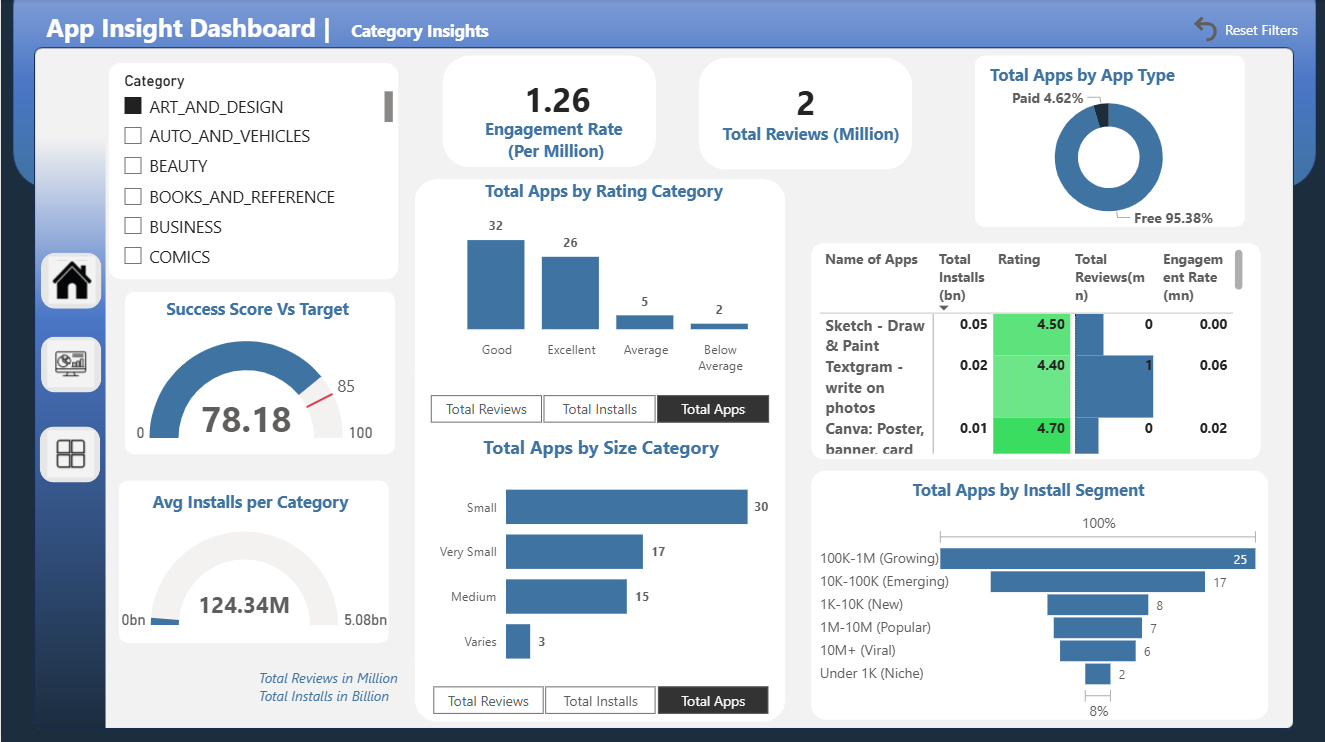

The dashboard page shown, as its layout file describes it:
{"tool":"powerbi","page":{"name":"Category","canvas":[1280,720],"ordinal":1},"visuals":[{"type":"shape","box":[939.2,54.8,261.1,165.9],"z":0},{"type":"shape","box":[782,235.2,434.3,209.2],"z":1000},{"type":"shape","box":[782,454.5,441.5,240.9],"z":2000},{"type":"shape","box":[114,464.1,261.1,157.3],"z":3000},{"type":"shape","box":[103.9,62,279.9,209.2],"z":4000},{"type":"shape","box":[119.7,281.8,261.1,157.3],"z":5000},{"type":"shape","box":[399.6,173.1,357.8,523.7],"z":6000},{"type":"slicer","fields":{"Values":["Apps.Category"]},"box":[106.8,64.9,277,200.5],"z":7000},{"type":"gauge","fields":{"Y":["Measure Table.Avg Success Score"],"MinValue":["Measure Table.zero"],"MaxValue":["Measure Table.max"],"TargetValue":["Measure Table.Target"]},"box":[121.2,319.3,248.2,119.7],"z":8000},{"type":"funnel","fields":{"Category":["Apps.Install Segment"],"Y":["Measure Table.Total Apps"]},"box":[785.4,491,435.5,209.9],"z":9000},{"type":"gauge","fields":{"MaxValue":["Measure Table.Avg install"],"MinValue":["Measure Table.zero"],"Y":["Measure Table.Avg Installs Per Category"]},"box":[106.8,501.6,277,119.7],"z":10000},{"type":"shape","box":[673.4,56.2,206.3,108.2],"z":11000},{"type":"card","fields":{"Values":["Measure Table.Total Reviews (M)"]},"box":[717,53.8,121.2,90.9],"z":12000},{"type":"textbox","box":[691,113.9,183.2,49.1],"z":13000},{"type":"shape","box":[425.6,54.4,206.3,108.2],"z":14000},{"type":"card","fields":{"Values":["Sum(Apps.Engagement Rate)"]},"box":[458.8,51.9,157.3,90.9],"z":15000},{"type":"textbox","box":[443.2,112.1,183.2,49.1],"z":16000},{"type":"barChart","fields":{"Y":["Measure Table.Total Apps"],"Category":["Apps.Size Category"]},"box":[412.6,421.3,333.3,239.5],"z":17000},{"type":"clusteredColumnChart","fields":{"Y":["Measure Table.Total Apps"],"Category":["Apps.Rating Category"]},"box":[406.9,173.1,350.6,196.2],"z":18000},{"type":"donutChart","fields":{"Category":["Apps.Type"],"Y":["Measure Table.Total Apps"]},"box":[916.2,80.8,307.3,144.3],"z":19000},{"type":"slicer","fields":{"Values":["Parameter.Parameter"]},"box":[388.1,375.1,376.6,34.6],"z":20000},{"type":"slicer","fields":{"Values":["Parameter3.Parameter3"]},"box":[391,656.5,373.7,37.5],"z":21000},{"type":"textbox","box":[154.4,281.8,200.5,33.2],"z":22000},{"type":"textbox","box":[141.4,468.9,206.3,33.2],"z":23000},{"type":"textbox","box":[874.3,457.4,240.9,33.2],"z":24000},{"type":"textbox","box":[949.3,56.3,240.9,33.2],"z":25000},{"type":"pivotTable","fields":{"Rows":["Apps.App"],"Values":["Measure Table.Total Installs (B)","Measure Table.Avg Rating","Measure Table.Total Reviews (M)","Sum(Apps.Engagement Rate)"]},"box":[784.9,236.6,418.4,207.8],"z":26000},{"type":"textbox","box":[243.8,640.6,155.8,53.4],"z":27000},{"type":"shape","box":[38.4,244.6,58.3,54],"z":28000},{"type":"shape","box":[38.4,325.7,58.3,54],"z":29000},{"type":"actionButton","box":[44.1,330,45.5,45.5],"z":30000},{"type":"shape","box":[37,412.4,58.3,54],"z":31000},{"type":"actionButton","box":[44.1,416.7,45.5,45.5],"z":32000},{"type":"actionButton","box":[45.5,248.9,45.5,45.5],"z":33000},{"type":"textbox","box":[38.6,6,518.8,44.6],"z":34000},{"type":"actionButton","box":[1146.1,11.9,116.9,33.2],"z":35000},{"type":"textbox","box":[1176.8,15.6,92.9,32.6],"z":36000}]}

Visuals, with their boxes in screenshot pixels (x1, y1, x2, y2), scaled from the page's 1280x720 canvas onto the 1325x742 screenshot:
shape: region(972, 56, 1242, 227)
shape: region(809, 242, 1259, 458)
shape: region(809, 468, 1267, 717)
shape: region(118, 478, 388, 640)
shape: region(108, 64, 397, 279)
shape: region(124, 290, 394, 453)
shape: region(414, 178, 784, 718)
slicer - Apps.Category: region(111, 67, 397, 274)
gauge - Measure Table.Avg Success Score x Measure Table.zero: region(125, 329, 382, 452)
funnel - Apps.Install Segment x Measure Table.Total Apps: region(813, 506, 1264, 722)
gauge - Measure Table.Avg install x Measure Table.zero: region(111, 517, 397, 640)
shape: region(697, 58, 911, 169)
card - Measure Table.Total Reviews (M): region(742, 55, 868, 149)
textbox: region(715, 117, 905, 168)
shape: region(441, 56, 654, 168)
card - Sum(Apps.Engagement Rate): region(475, 53, 638, 147)
textbox: region(459, 116, 648, 166)
barChart - Measure Table.Total Apps x Apps.Size Category: region(427, 434, 772, 681)
clusteredColumnChart - Measure Table.Total Apps x Apps.Rating Category: region(421, 178, 784, 381)
donutChart - Apps.Type x Measure Table.Total Apps: region(948, 83, 1267, 232)
slicer - Parameter.Parameter: region(402, 387, 792, 422)
slicer - Parameter3.Parameter3: region(405, 677, 792, 715)
textbox: region(160, 290, 367, 325)
textbox: region(146, 483, 360, 517)
textbox: region(905, 471, 1154, 506)
textbox: region(983, 58, 1232, 92)
pivotTable - Apps.App x Measure Table.Total Installs (B): region(812, 244, 1246, 458)
textbox: region(252, 660, 414, 715)
shape: region(40, 252, 100, 308)
shape: region(40, 336, 100, 391)
actionButton: region(46, 340, 93, 387)
shape: region(38, 425, 99, 481)
actionButton: region(46, 429, 93, 476)
actionButton: region(47, 257, 94, 303)
textbox: region(40, 6, 577, 52)
actionButton: region(1186, 12, 1307, 46)
textbox: region(1218, 16, 1314, 50)
